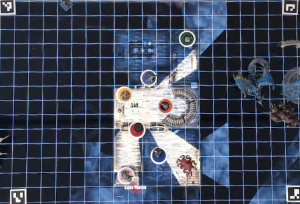blue: (150, 145, 166, 165)
green: (178, 28, 197, 49)
orange: (156, 96, 173, 114)
pink: (117, 165, 134, 184)
red: (128, 121, 147, 139)
violet: (139, 68, 158, 86)
yellow: (116, 86, 134, 101)
